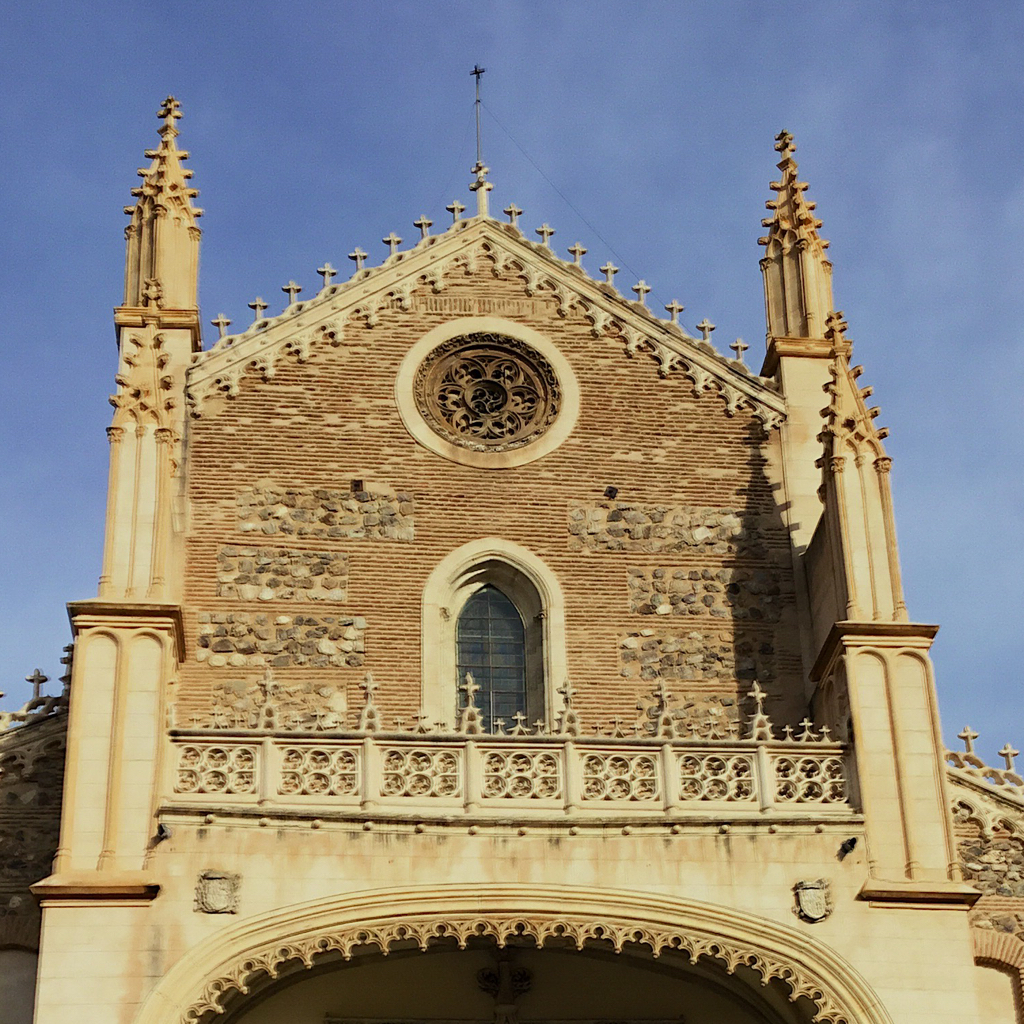arco-apuntado: (448, 572, 536, 652)
pinaculo-gotico: (101, 266, 197, 443), (805, 308, 894, 476), (753, 115, 842, 282), (119, 89, 209, 252)
